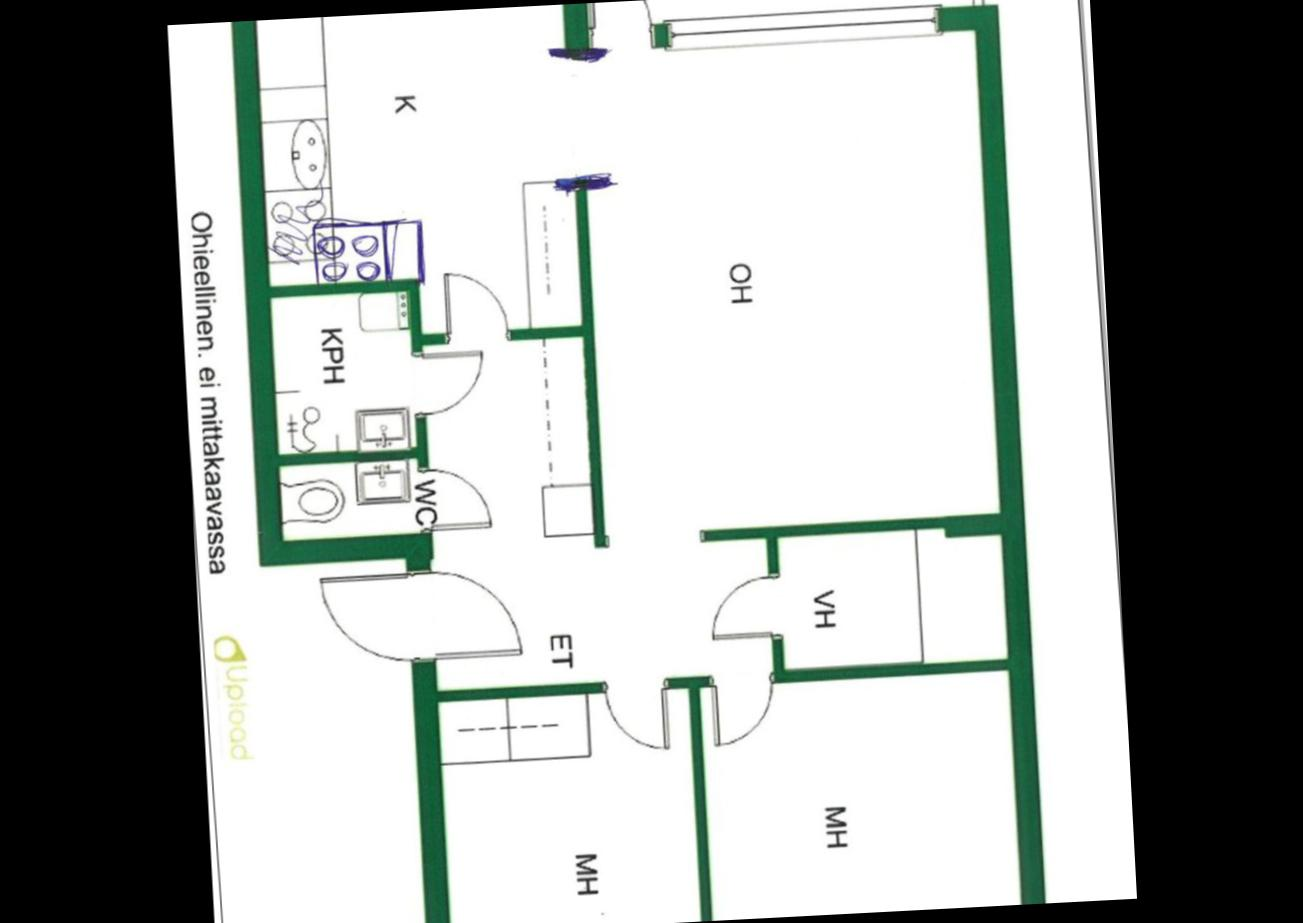door: (413, 558, 527, 665), (311, 566, 428, 668), (594, 671, 676, 756), (702, 663, 782, 749), (420, 457, 502, 539), (702, 570, 786, 649), (410, 340, 490, 422), (435, 264, 512, 348), (580, 0, 658, 50)
window: (655, 0, 948, 56)
